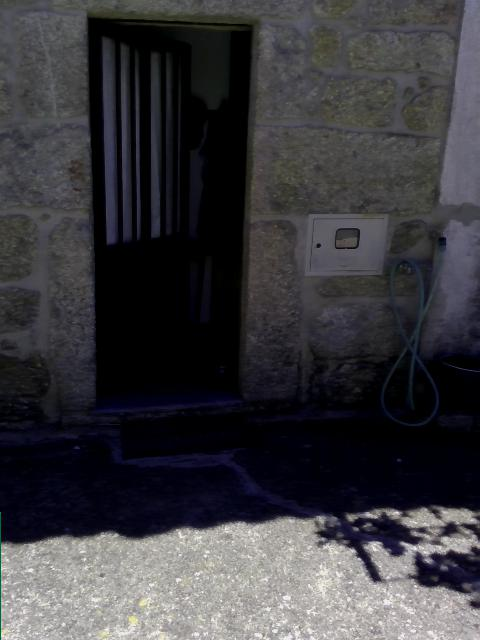semi_door: (83, 11, 261, 413)
